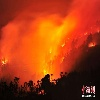fire: (42, 46, 53, 77), (61, 36, 70, 49), (1, 57, 8, 68), (61, 56, 65, 64), (89, 43, 94, 48)
